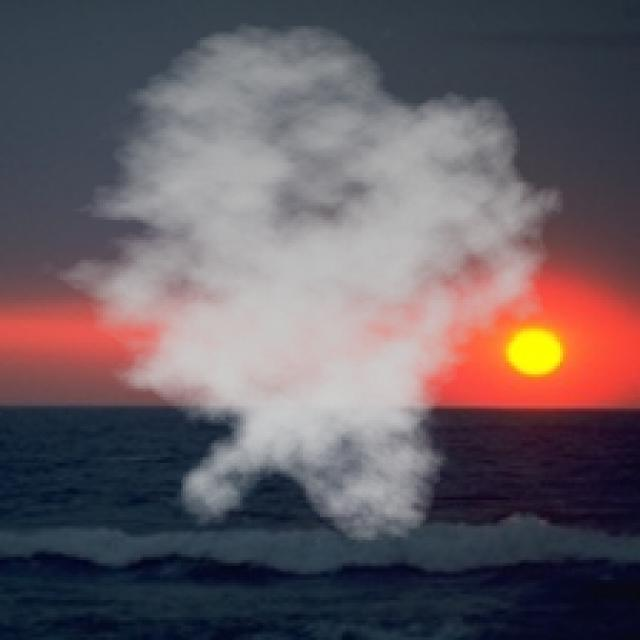smoke: (32, 23, 577, 546)
